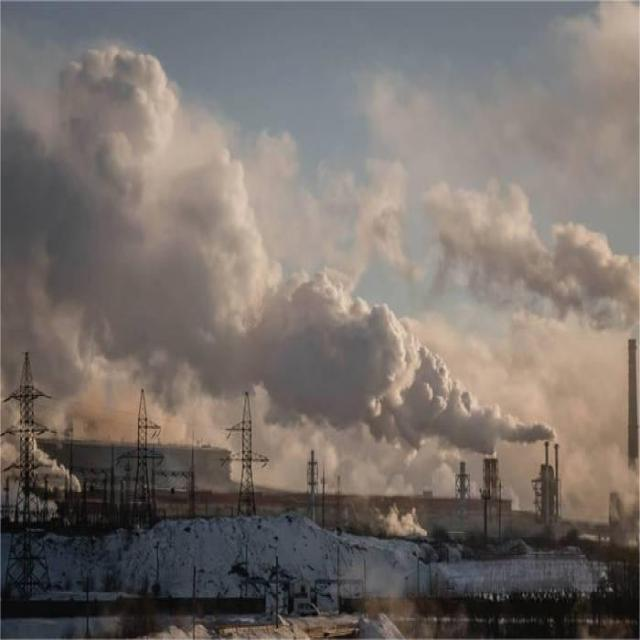Smoke: (0, 48, 640, 450)
